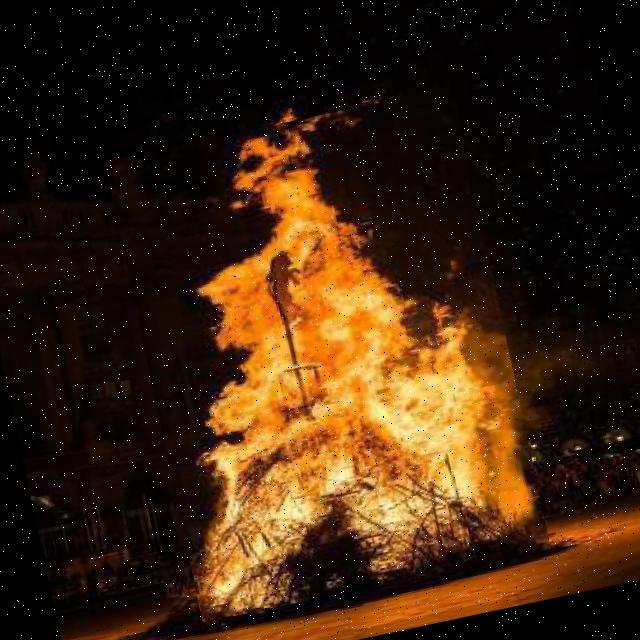fire: (104, 86, 550, 622)
